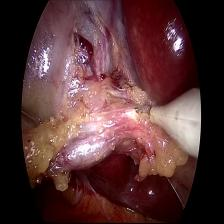Grasper: (20, 106, 46, 140)
Hook: (131, 88, 201, 155)
